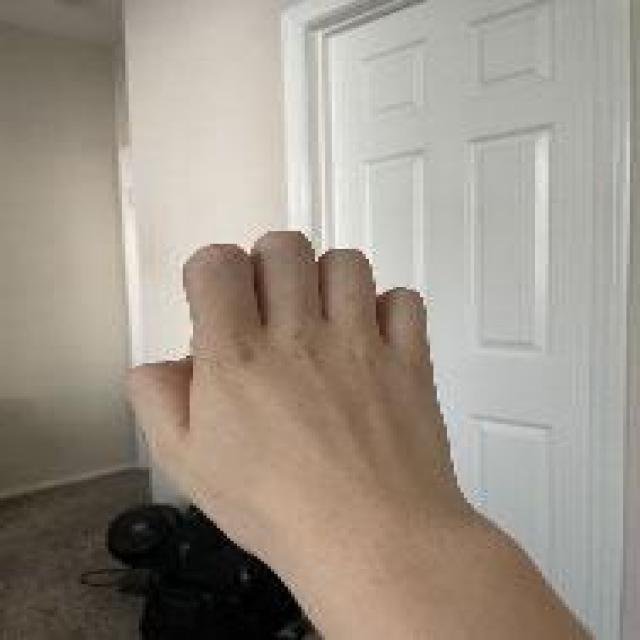E: (119, 219, 491, 551)
